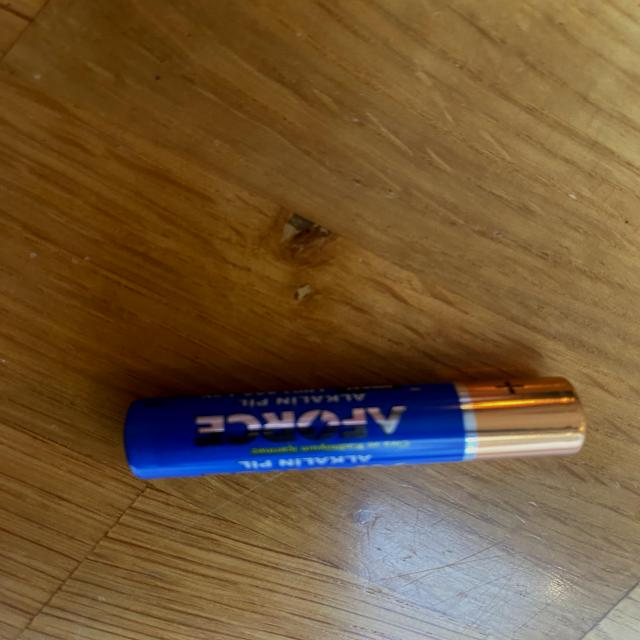AA: (116, 373, 589, 482)
